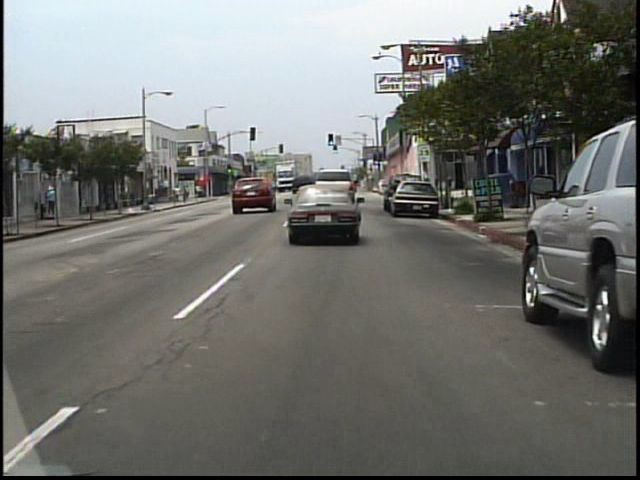person: (48, 183, 59, 219), (174, 184, 182, 204), (183, 184, 189, 203)
